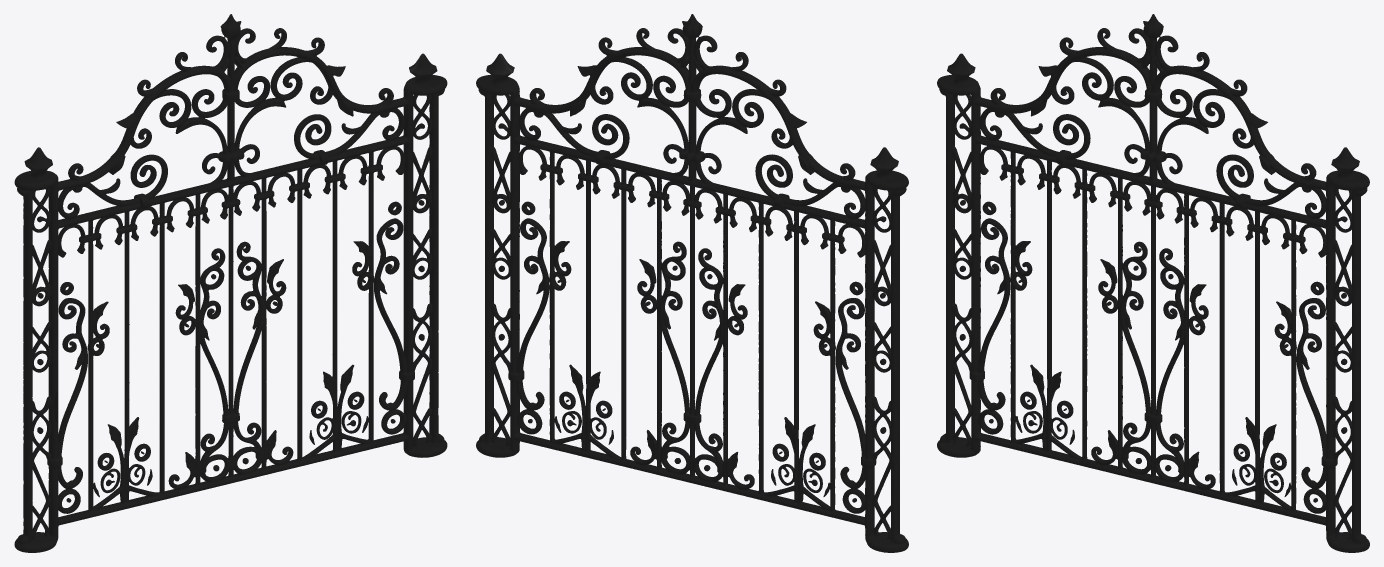
The model's file is Ornate Wrought-Iron Fence Panel_DKB.glb.
3 views of the same model, side by side, from view 1: azimuth 30°, elevation 25°; view 2: azimuth 150°, elevation 25°; view 3: azimuth 330°, elevation 25° (orthographic).
Bounding box in the file's own units: 1.76 × 1.9 × 0.1285.
Materials: 1 (1 with a texture image).
